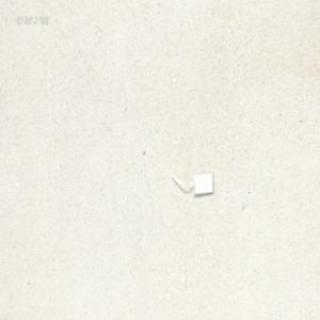LuggageTagtrack_idkeyframe: (170, 169, 213, 197)
